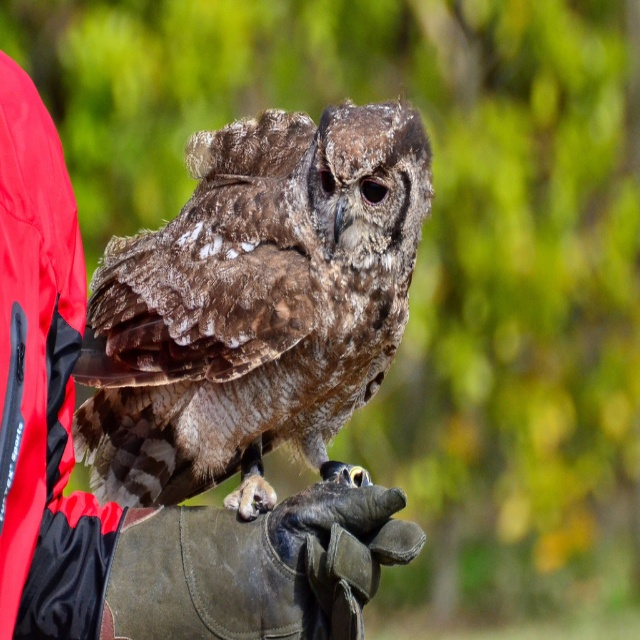Owl: (69, 88, 436, 521)
